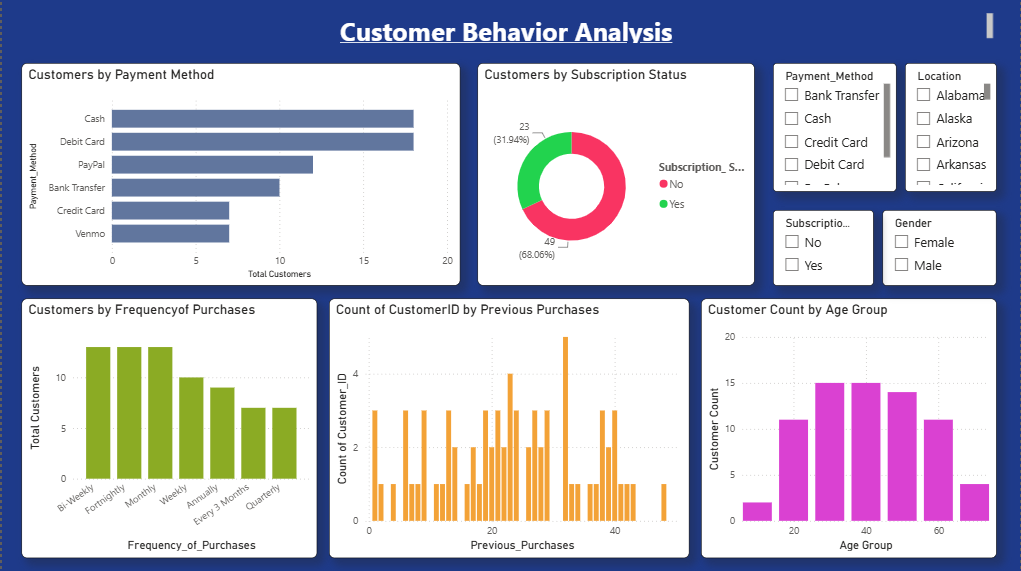

Layout of this report page (visuals, bound fields, positions):
{"tool":"powerbi","page":{"name":"Customer Behavior Analysis","canvas":[1280,720],"ordinal":1},"visuals":[{"type":"donutChart","title":"Customers by Subscription Status","fields":{"Category":["shopping_trends_updated.Subscription_ Status"],"Y":["shopping_trends_updated.Total Customers"]},"box":[598.3,80,348.3,280],"z":0},{"type":"clusteredBarChart","title":"Customers by Payment Method","fields":{"Category":["shopping_trends_updated.Payment_Method"],"Y":["shopping_trends_updated.Total Customers"]},"box":[25,80,551.7,280],"z":1000},{"type":"clusteredColumnChart","title":"Customers by Frequencyof Purchases","fields":{"Category":["shopping_trends_updated.Frequency_of_Purchases"],"Y":["shopping_trends_updated.Total Customers"]},"box":[25,375,371.7,326.7],"z":2000},{"type":"columnChart","title":"Count of CustomerID by Previous Purchases","fields":{"Category":["shopping_trends_updated.Previous_Purchases"],"Y":["CountNonNull(shopping_trends_updated.Customer_ID)"]},"box":[411.7,375,453.3,326.7],"z":3000},{"type":"clusteredColumnChart","fields":{"Category":["shopping_trends_updated.Age Group"],"Y":["shopping_trends_updated.Customer Count"]},"box":[880,375,371.7,326.7],"z":4000},{"type":"slicer","fields":{"Values":["shopping_trends_updated.Gender"]},"box":[1108.3,265,143.3,95],"z":5000},{"type":"slicer","fields":{"Values":["shopping_trends_updated.Subscription_ Status"]},"box":[970,265,126.7,95],"z":6000},{"type":"slicer","fields":{"Values":["shopping_trends_updated.Payment_Method"]},"box":[970,80,155,161.7],"z":7000},{"type":"slicer","fields":{"Values":["shopping_trends_updated.Location"]},"box":[1136.7,80,115,161.7],"z":8000},{"type":"textbox","box":[25,11.7,1226.7,46.7],"z":9000}]}

Visuals, with their boxes in screenshot pixels (x1, y1, x2, y2), scaled from the page's 1280x720 canvas onto the 1021x571 screenshot:
"Customers by Subscription Status" donutChart: 477 63 755 286
"Customers by Payment Method" clusteredBarChart: 20 63 460 286
"Customers by Frequencyof Purchases" clusteredColumnChart: 20 297 316 556
"Count of CustomerID by Previous Purchases" columnChart: 328 297 690 556
clusteredColumnChart - shopping_trends_updated.Age Group x shopping_trends_updated.Customer Count: 702 297 998 556
slicer - shopping_trends_updated.Gender: 884 210 998 286
slicer - shopping_trends_updated.Subscription_ Status: 774 210 875 286
slicer - shopping_trends_updated.Payment_Method: 774 63 897 192
slicer - shopping_trends_updated.Location: 907 63 998 192
textbox: 20 9 998 46
